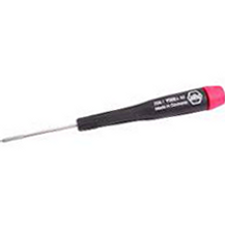Screwdriver: (1, 79, 225, 158)
